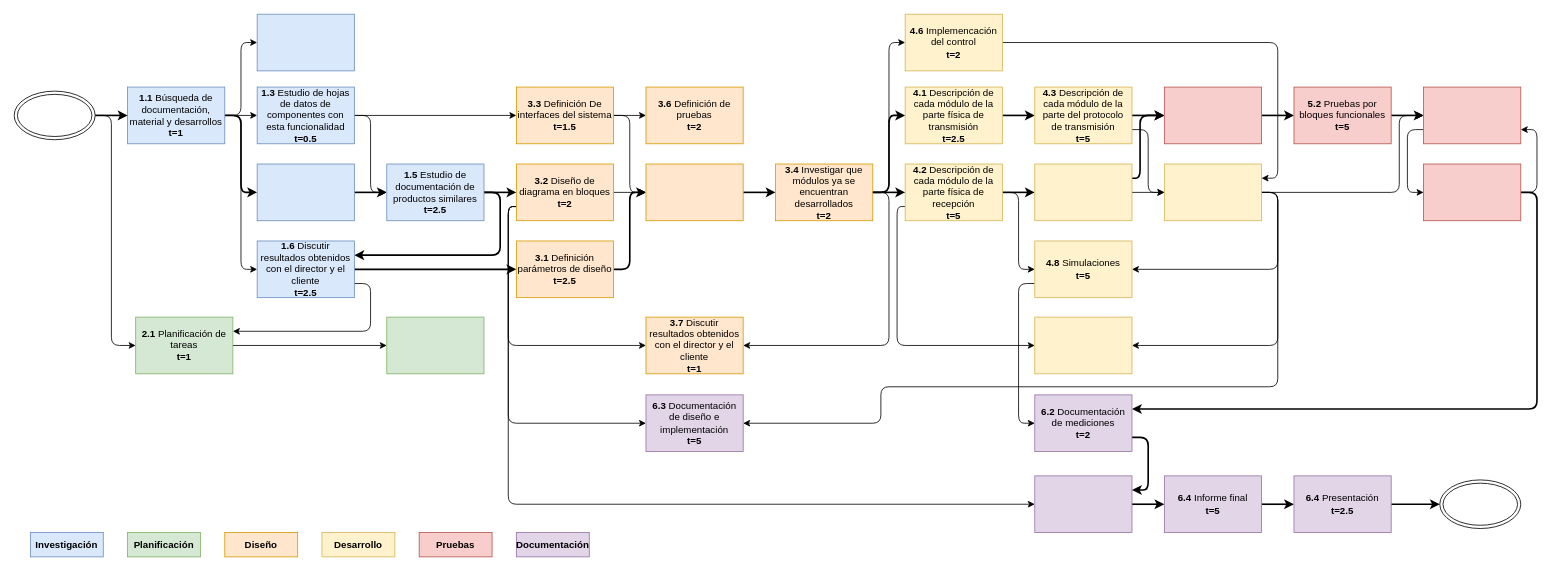
Image size: 1558x571. Some labels were removed from this diagram. The centre of each missing label's shape, as x and y in pixels:
"1.2 Estudio de normas t=1" belongs at [305,42].
"1.4 Estudio de desarrollos similares t=1.5" belongs at [305,192].
"2.2 Documentación de la planificación t=0.5" belongs at [435,345].
"3.5 Diseño Detallado de los bloques t=5" belongs at [694,192].
"4.4 Descripción de cada módulo de la parte del protocolo de recepción t=5" belongs at [1083,192].
"4.5 Integración de módulos t=5" belongs at [1213,192].
"4.7 Reuniones con el director y el cliente t=2" belongs at [1083,345].
"5.1 Pruebas por módulos t=5" belongs at [1213,115].
"5.3 Pruebas del sistema completo t=5" belongs at [1472,115].
"5.4 Pruebas de integración en el equipo t=5" belongs at [1472,192].
"6.1 Documentación de avances t=3" belongs at [1083,504].
"Fin 19/10/2021" belongs at [1480,504].
"Inicio 19/10/2020" belongs at [54,115].
